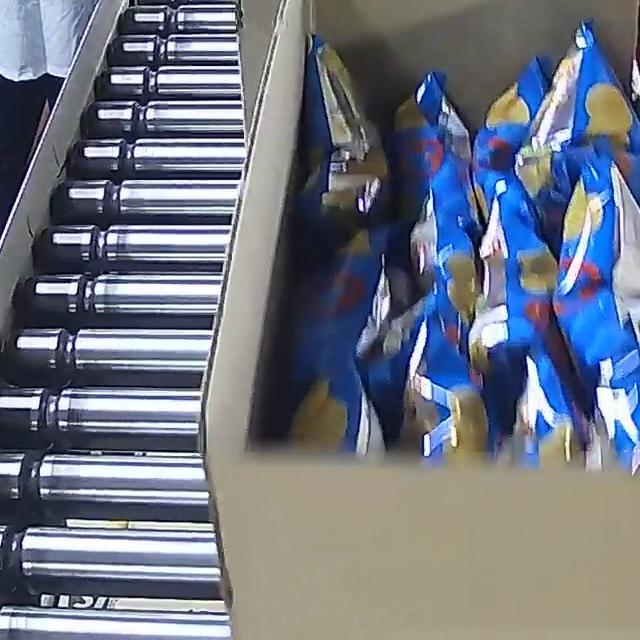paprika: (250, 16, 640, 473)
